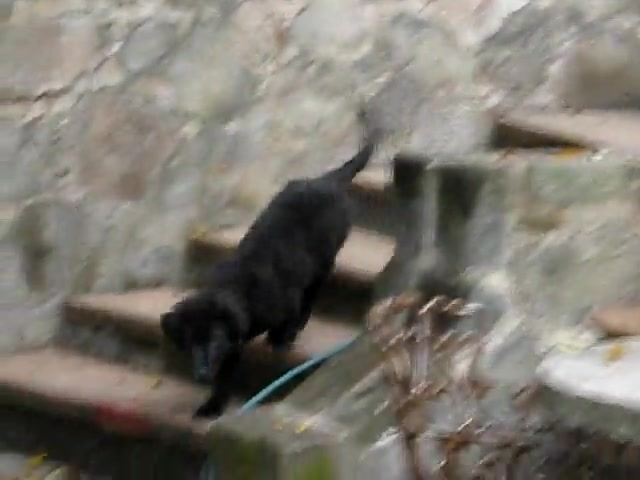dog: (159, 142, 377, 422)
